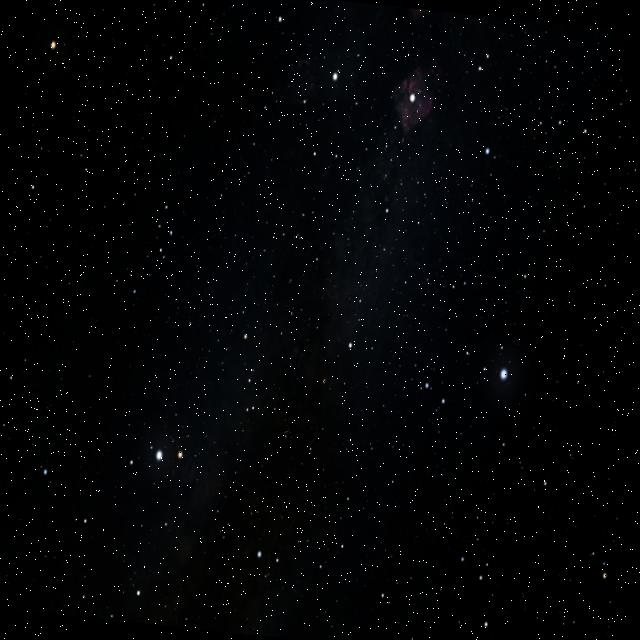Vulpecula: (293, 250, 349, 400)
